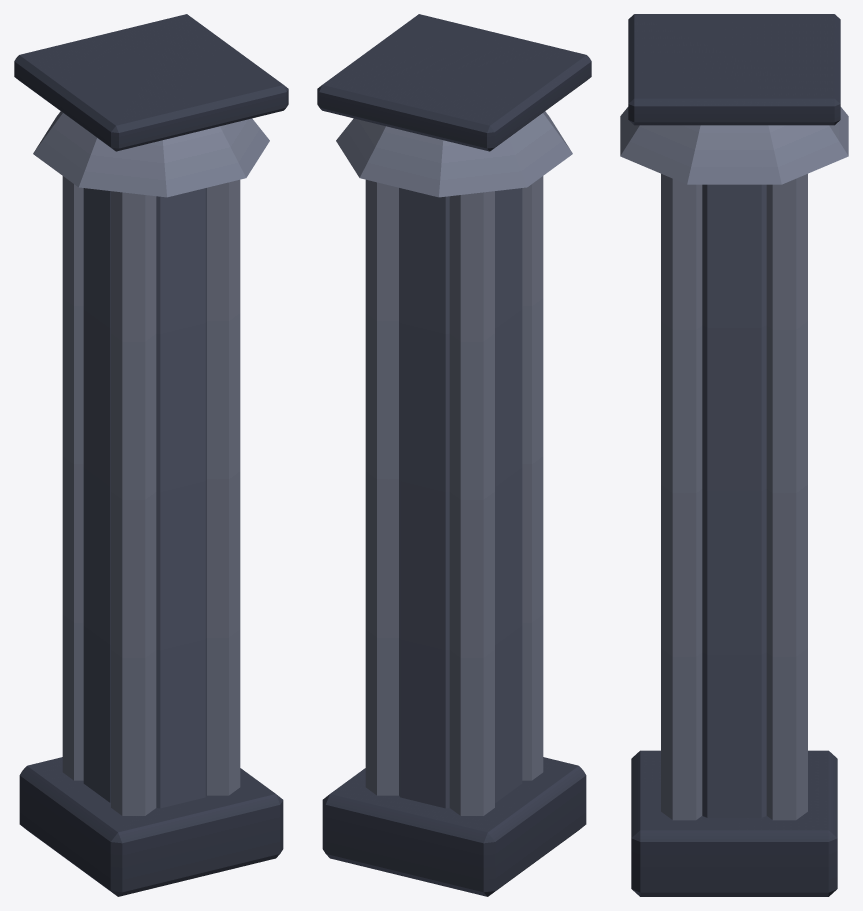
File: catedral-pillar.glb
3 renders of one model, left to right at view 1: azimuth 30°, elevation 25°; view 2: azimuth 150°, elevation 25°; view 3: azimuth 270°, elevation 25°, orthographic. The views are drawn at different scales.
Parts seen in each view (by area): view 1: pillar; view 2: pillar; view 3: pillar.
Part boxes in pixels (left/top/right/bottom): pillar: left=14, top=14, right=288, bottom=896; pillar: left=317, top=14, right=591, bottom=896; pillar: left=620, top=14, right=848, bottom=896.
Size of the model in its own units: 0.7761 by 3 by 0.7761.
1 material, 1 textured.
